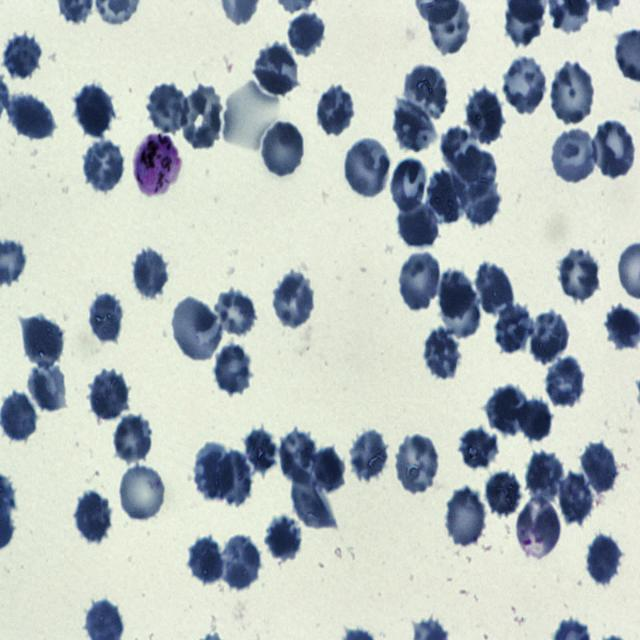difficult: (132, 132, 181, 198)
red blood cell: (171, 296, 223, 363), (290, 462, 337, 531), (549, 60, 597, 126), (343, 136, 392, 198), (517, 496, 564, 560), (118, 462, 167, 523), (402, 63, 450, 124), (394, 433, 439, 496), (180, 85, 224, 149), (260, 119, 306, 180), (502, 55, 548, 115), (550, 126, 598, 183), (445, 486, 488, 548), (398, 250, 442, 310), (272, 272, 314, 333), (253, 42, 300, 96), (450, 145, 496, 200), (6, 94, 58, 142), (594, 120, 636, 179), (556, 247, 602, 300), (20, 313, 64, 368), (212, 286, 258, 338), (464, 88, 505, 146), (392, 102, 437, 154), (426, 170, 469, 224), (390, 157, 429, 216), (146, 82, 190, 134), (544, 356, 586, 409), (348, 429, 390, 482), (194, 445, 233, 502), (83, 140, 124, 194), (487, 384, 528, 438), (212, 343, 253, 397), (440, 284, 480, 339), (422, 327, 463, 380), (529, 310, 569, 364), (221, 536, 261, 590), (112, 414, 154, 465), (277, 427, 314, 484), (397, 200, 440, 249), (1, 31, 42, 82), (586, 533, 624, 587), (28, 361, 68, 412), (215, 451, 252, 506), (494, 302, 534, 352), (76, 83, 113, 137), (90, 369, 128, 421), (316, 84, 354, 136), (87, 292, 125, 344), (187, 536, 224, 589), (73, 491, 110, 544), (477, 261, 512, 317), (526, 450, 565, 500), (581, 442, 617, 496), (131, 248, 168, 299), (460, 180, 500, 227), (486, 469, 523, 519), (559, 474, 595, 524), (2, 392, 37, 443), (437, 271, 474, 319), (242, 427, 276, 478), (288, 13, 326, 58), (310, 446, 345, 494), (515, 397, 552, 442), (266, 516, 302, 562), (458, 427, 496, 469)
